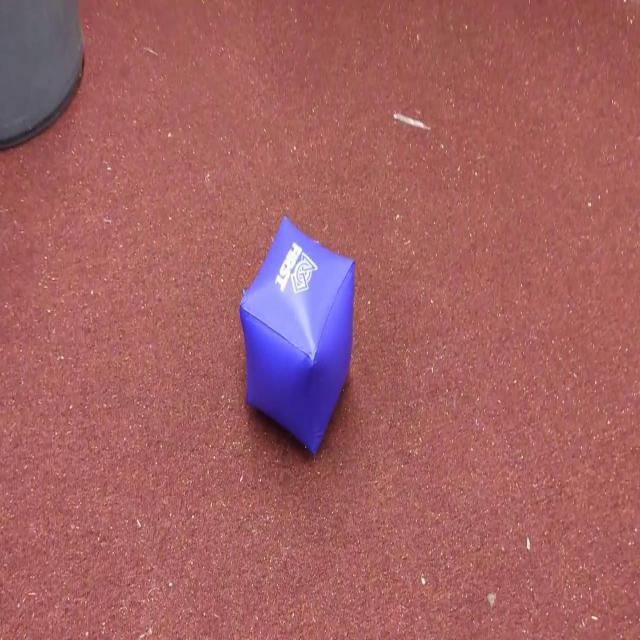frc_cube: (240, 222, 354, 460)
